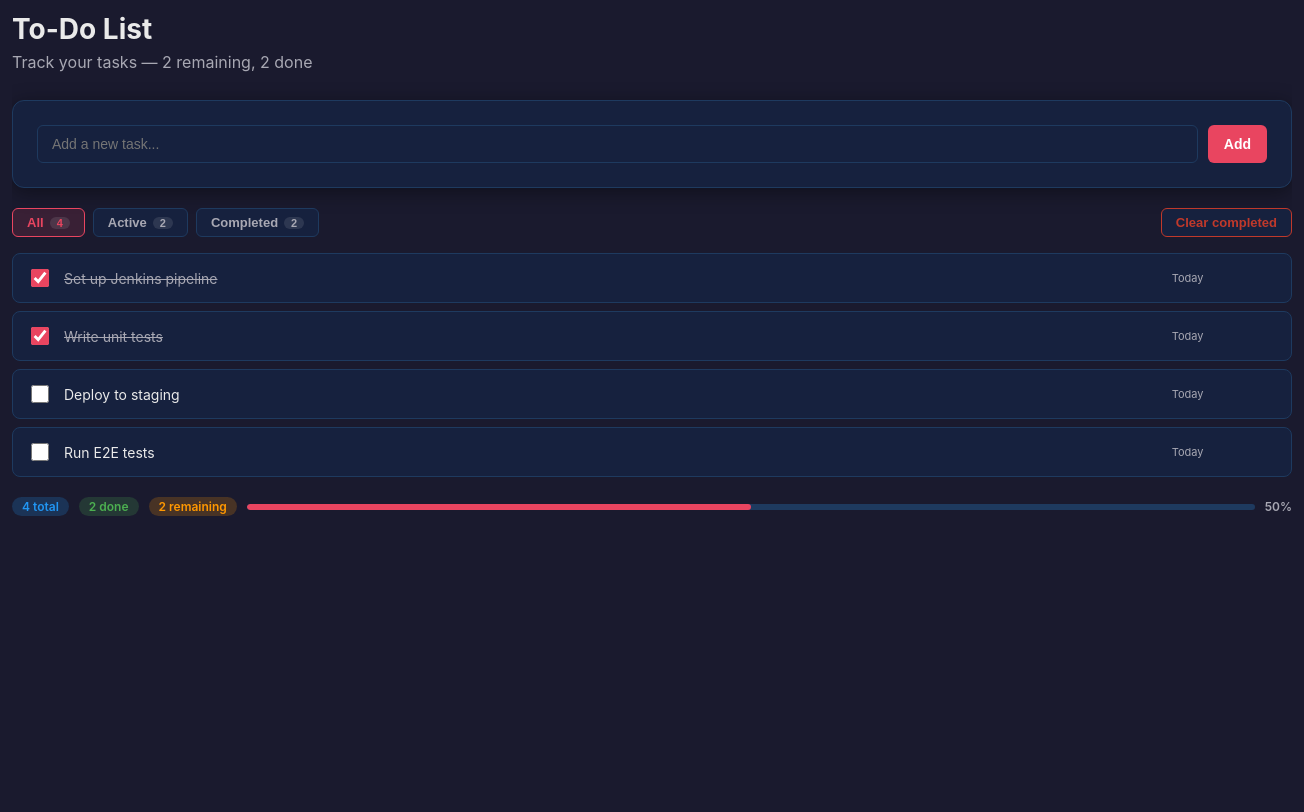
Test case: adds a new todo
In the field named "New task input": (617, 144) x1=37 y1=125 x2=1198 y2=163, type "Deploy to production"
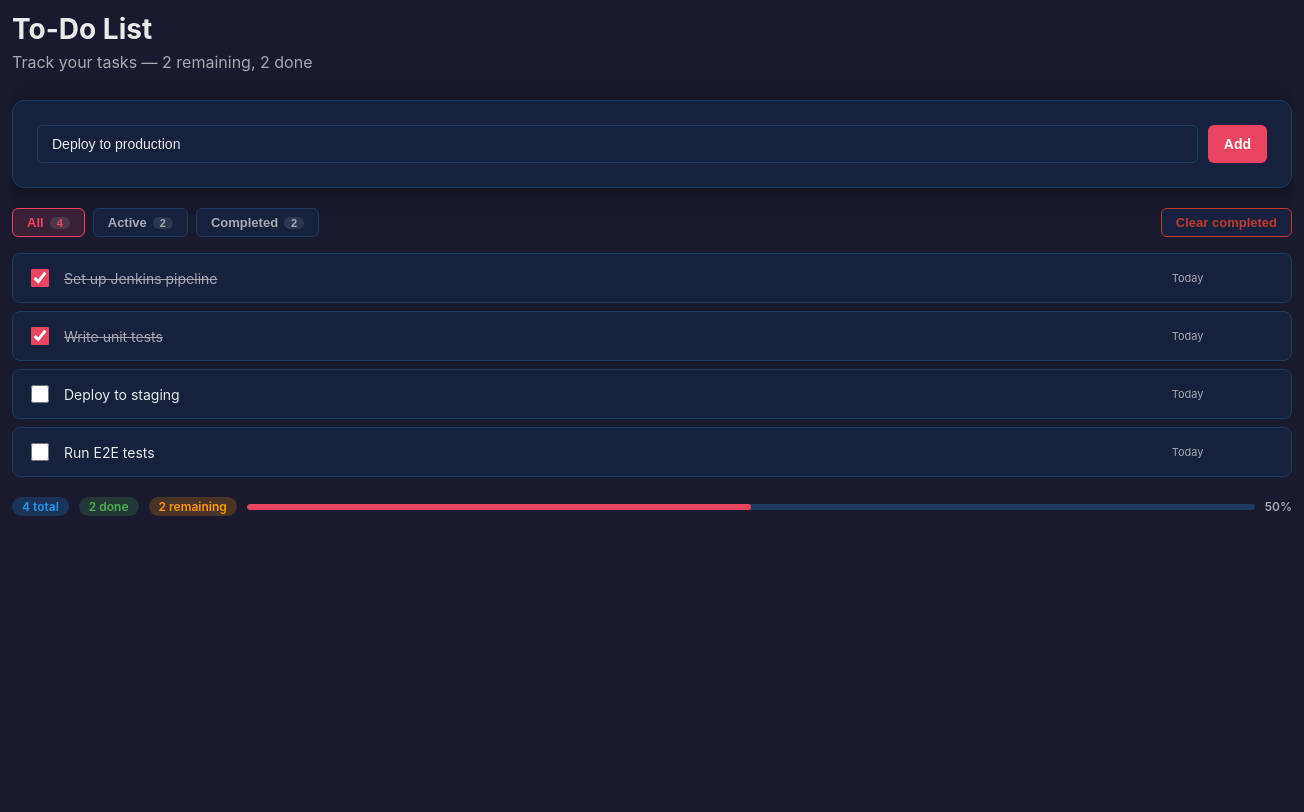
Click the button with aria-label "Add task": (1237, 144) x1=1208 y1=125 x2=1267 y2=163
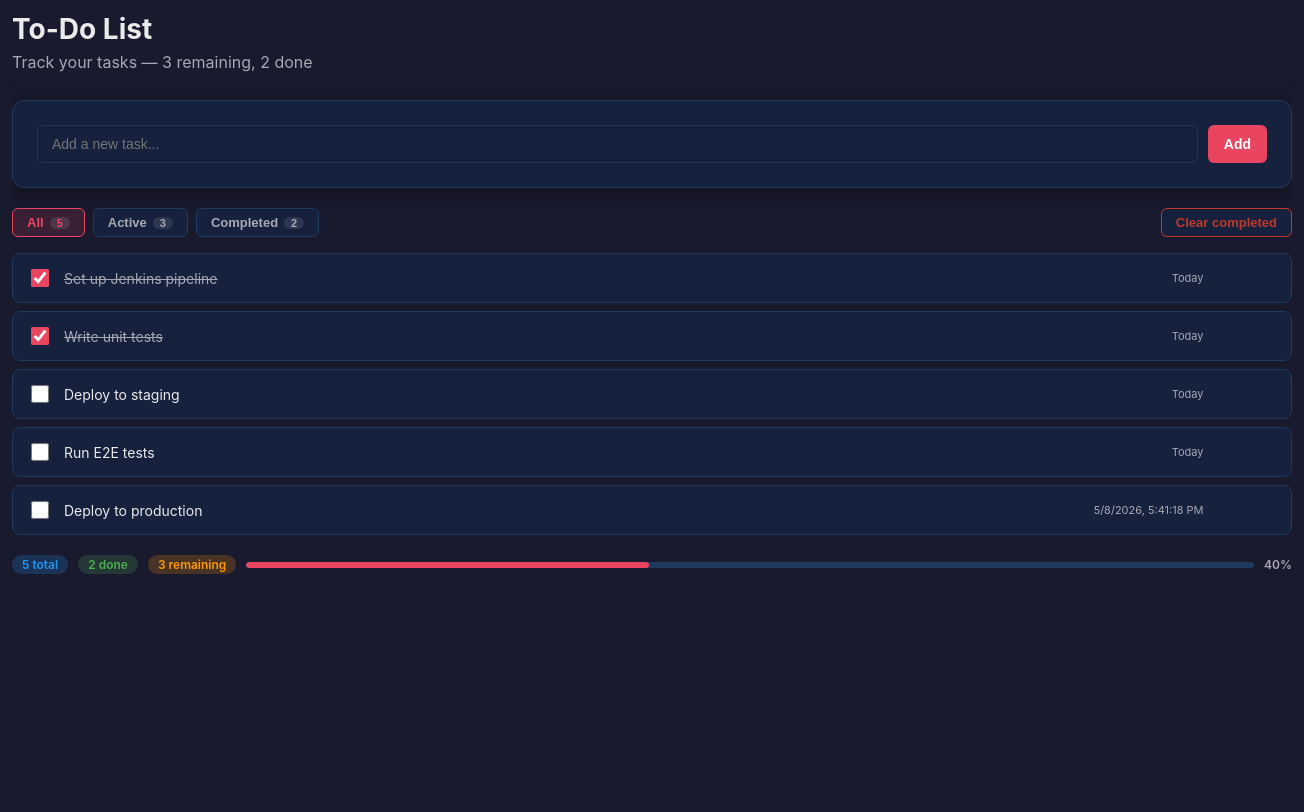
Now the text "Deploy to production" is shown, box x1=64 y1=502 x2=202 y2=518
Now the field named "New task input" is empty, box x1=37 y1=125 x2=1198 y2=163
